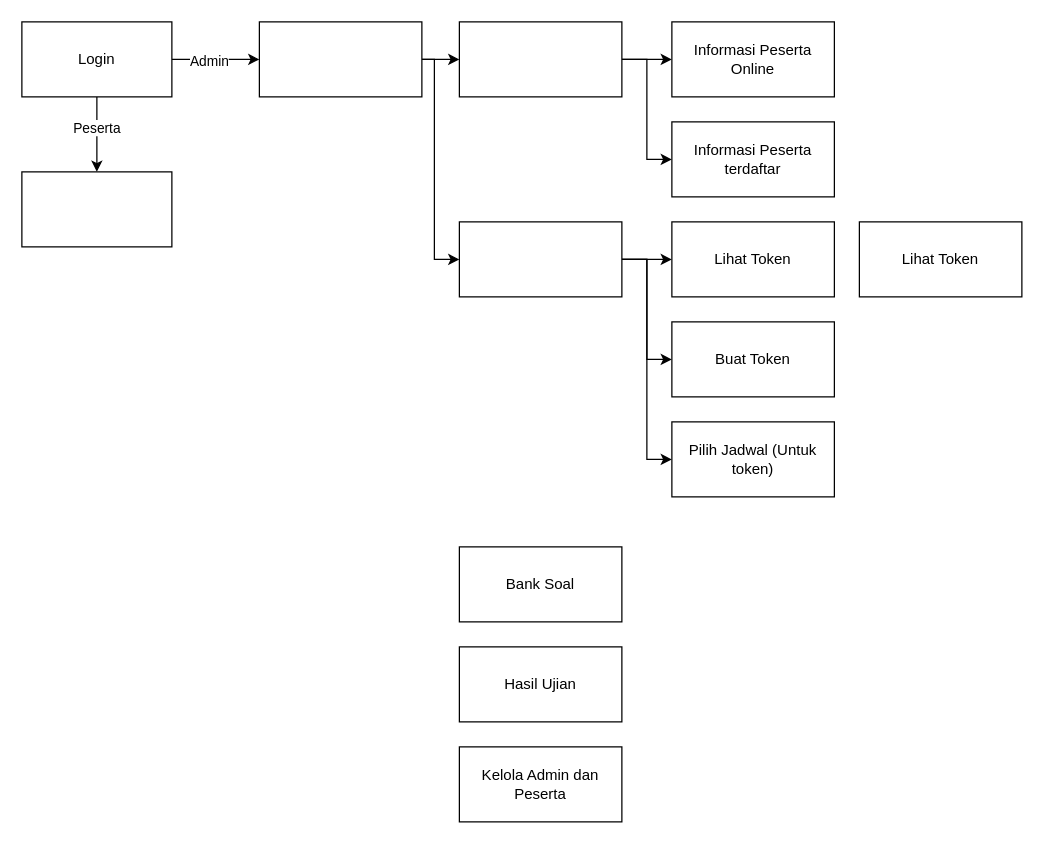
The diagram is 1044 pixels wide and 844 high, and some of its shapes have lost their labels. The centre of each missing label's shape, as x and y in pixels:
"Dashboard" goes at [540,59].
"DashboardAdmin" goes at [340,59].
"dashboardPeserta" goes at [96,209].
"Token Ujian" goes at [540,259].
